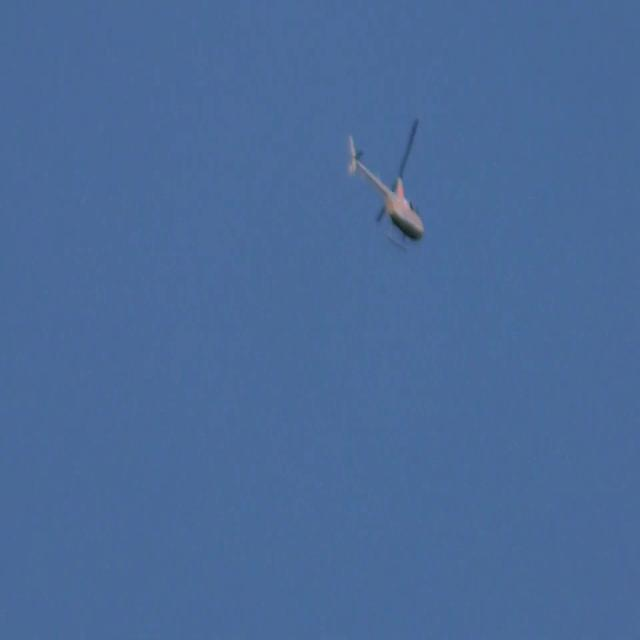CIV_HELO: (348, 133, 424, 254)
